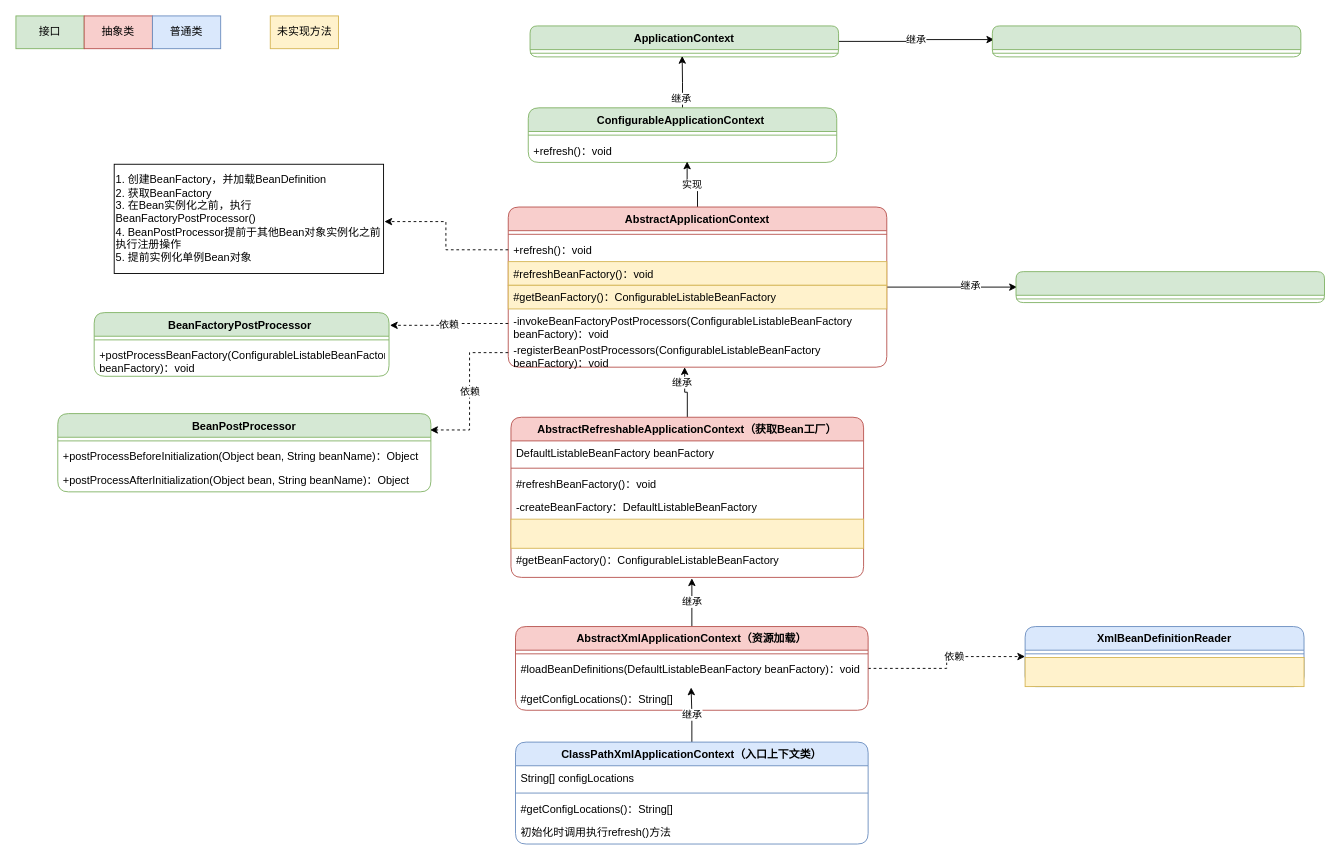
This 1340x863 diagram has some shape labels left out. The centre of each missing label's shape, as x and y in pixels:
+loadBeanDefinitions(configLocations)：void: the point at 1164,672
-loadBeanDefinitions(DefaultListableBeanFactory beanFactory)：void: the point at 687,533
DefaultResourceLoader: the point at 1170,287
ListableBeanFactory: the point at 1146,41
